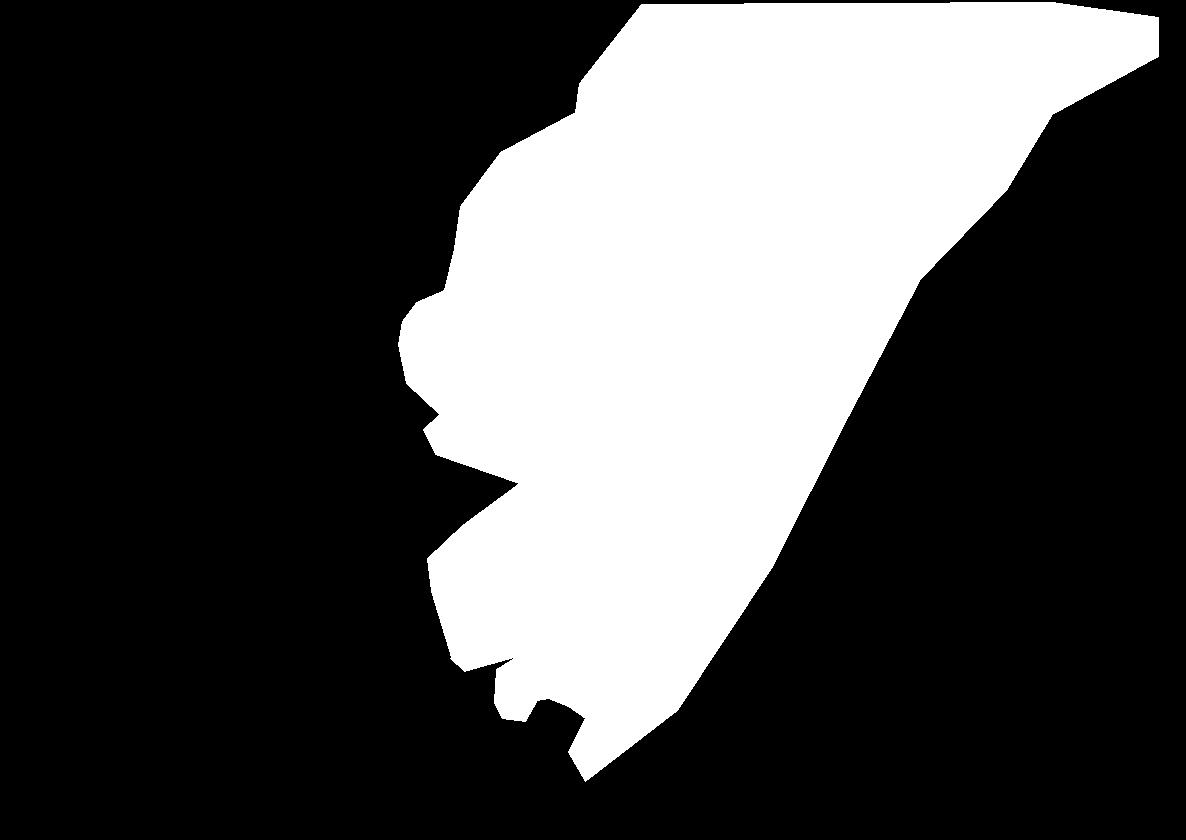Fire: (440, 308, 749, 716)
